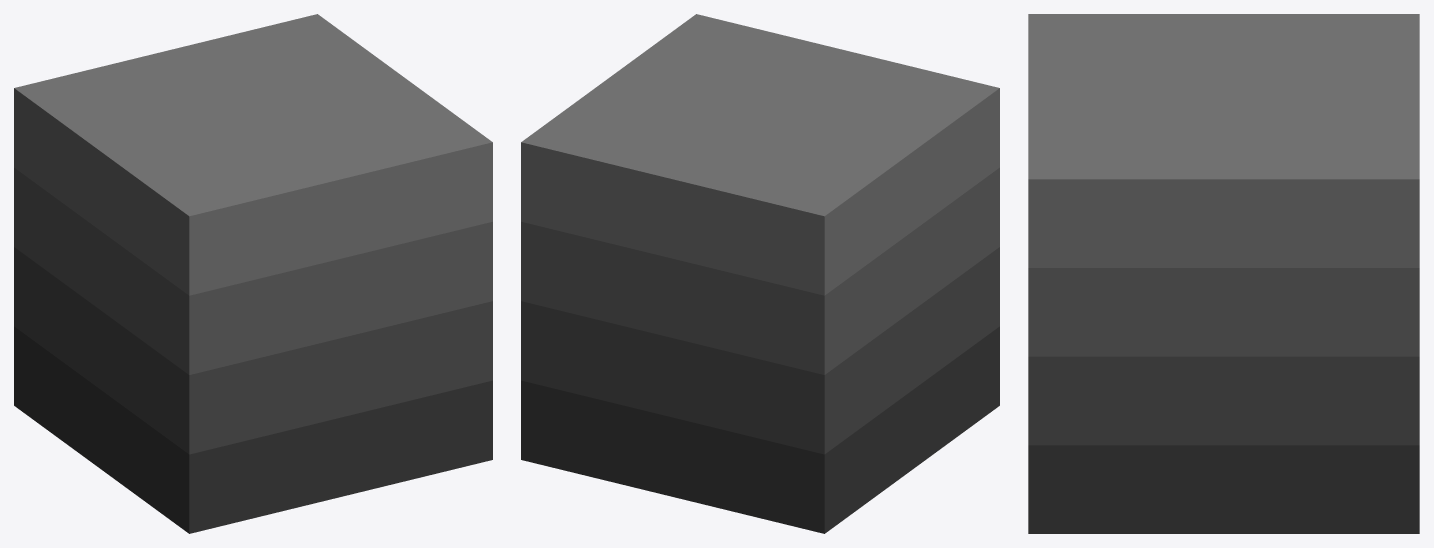
File: mountain-1.gltf
3 renders of one model, left to right at view 1: azimuth 30°, elevation 25°; view 2: azimuth 150°, elevation 25°; view 3: azimuth 270°, elevation 25°, orthographic. The views are drawn at different scales.
Visible parts, largest first — view 1: mountain-1; view 2: mountain-1; view 3: mountain-1.
Part boxes in pixels (x1,y1,x2,y2): mountain-1: [14, 14, 492, 533]; mountain-1: [521, 14, 999, 533]; mountain-1: [1028, 14, 1419, 533].
Bounding box in the file's own units: 3.2 × 3.2 × 3.2.
Materials: 1 (1 with a texture image).
